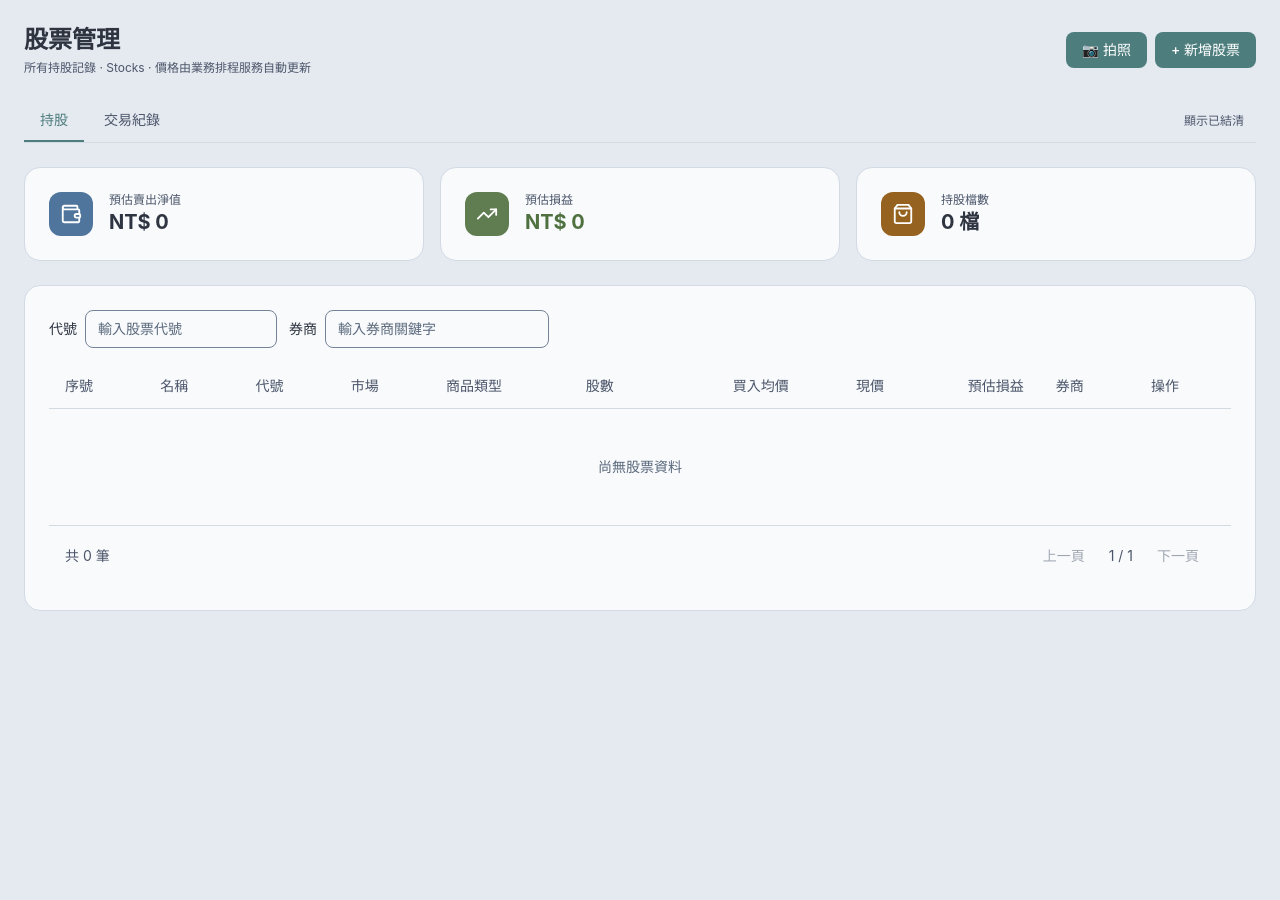
Test case: StocksPage market contract › closes the create modal after a pending symbol lookup resolves before create
Click the button "+ 新增股票" at (1205, 50), box [1155,32,1256,68]
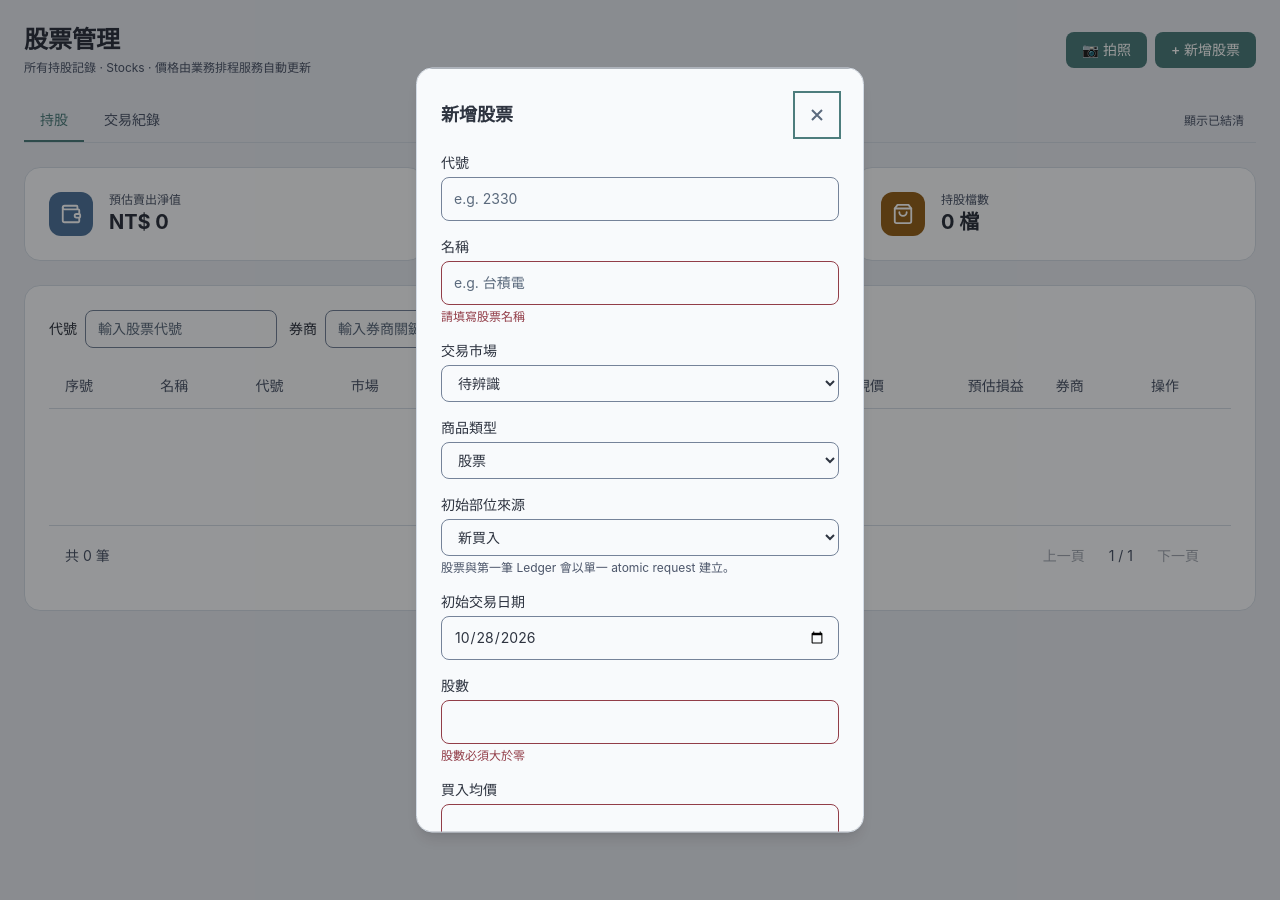
Type "自訂名稱" into the field with placeholder "e.g. 台積電" at (640, 282), box [441,260,839,304]
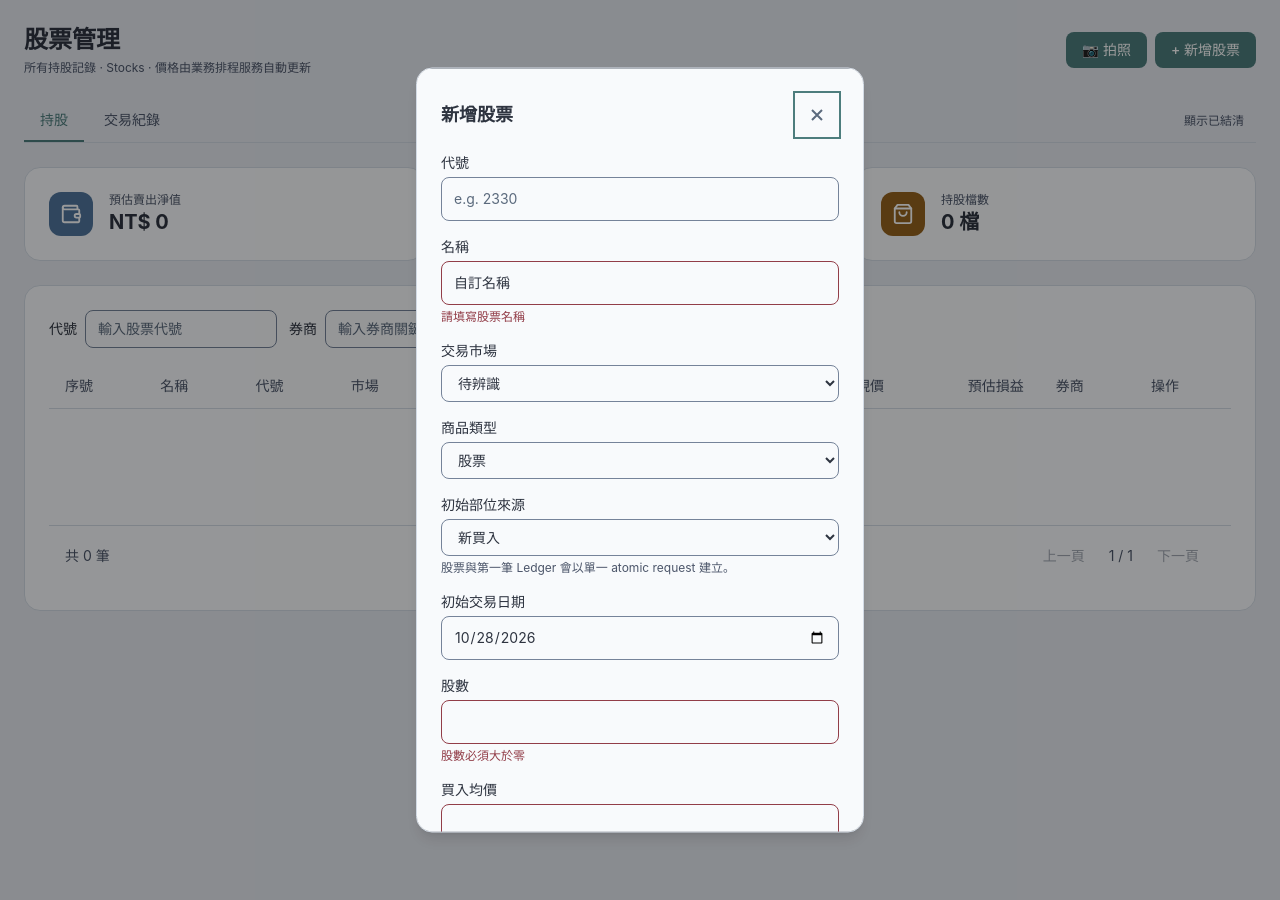
Type "10" into the 1st number field at (640, 722), box [441,700,839,744]
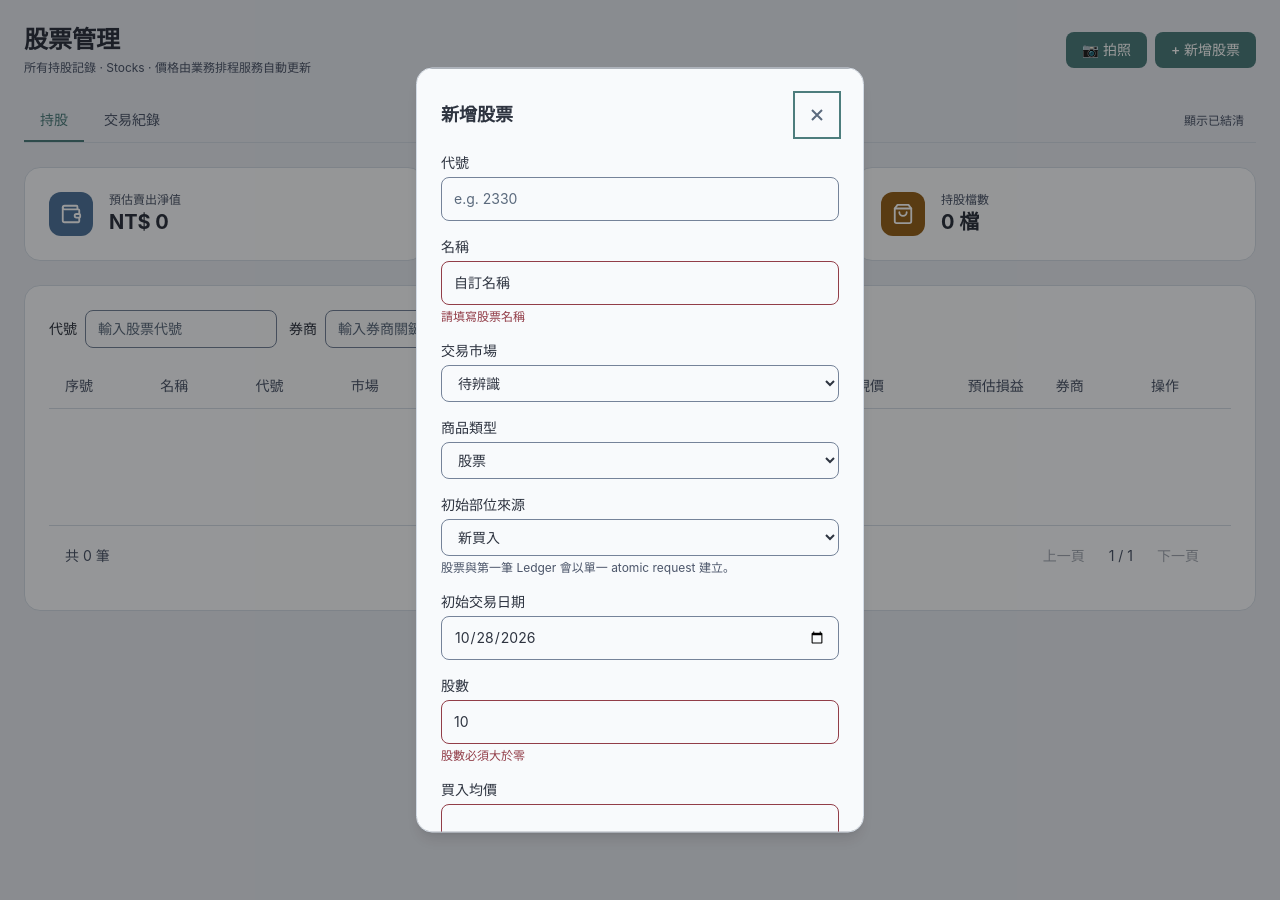
Type "500" into the 2nd number field at (640, 826), box [441,804,839,848]
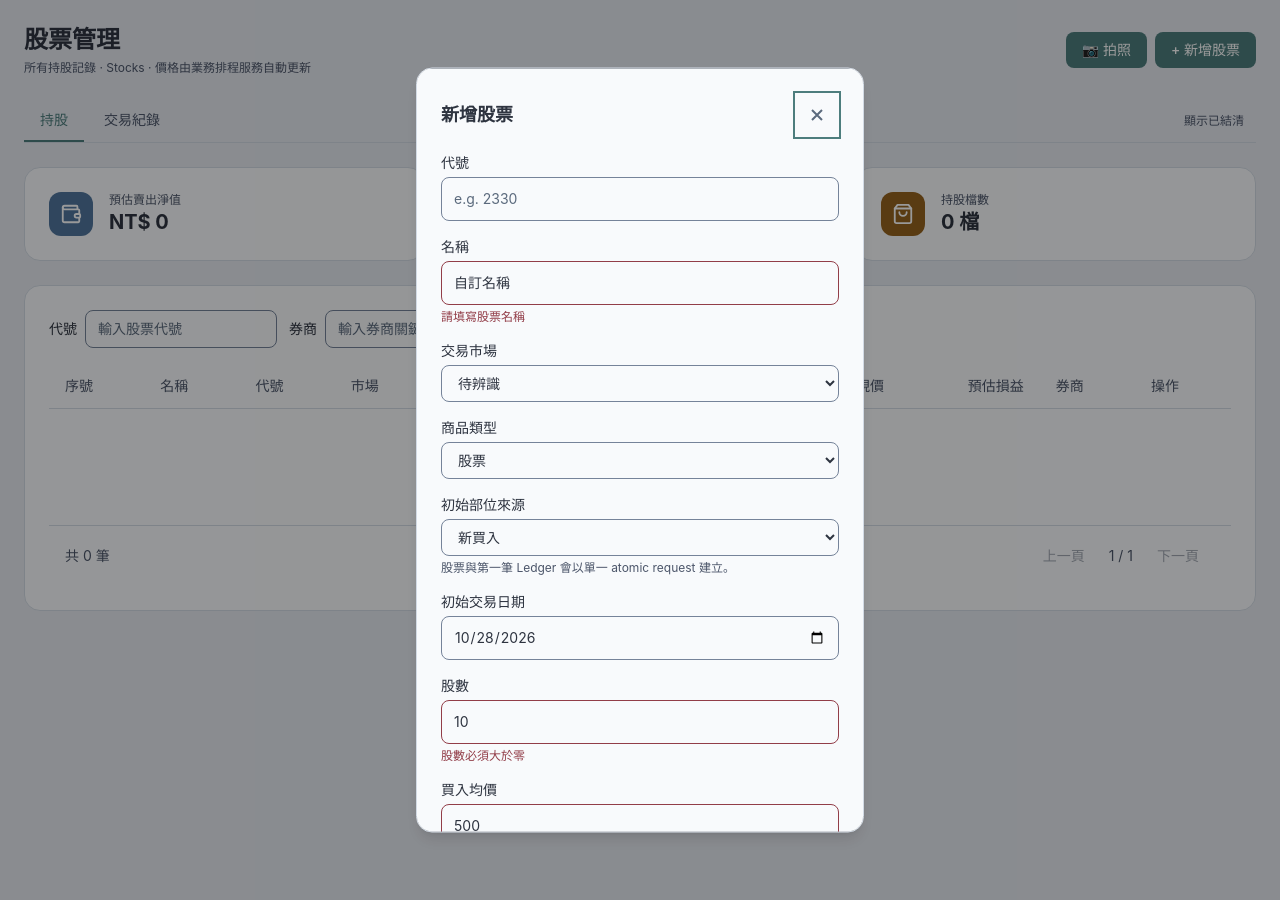
Type "2330" into the field with placeholder "e.g. 2330" at (640, 198), box [441,176,839,220]
Wait 400 ms
(page scrolled)
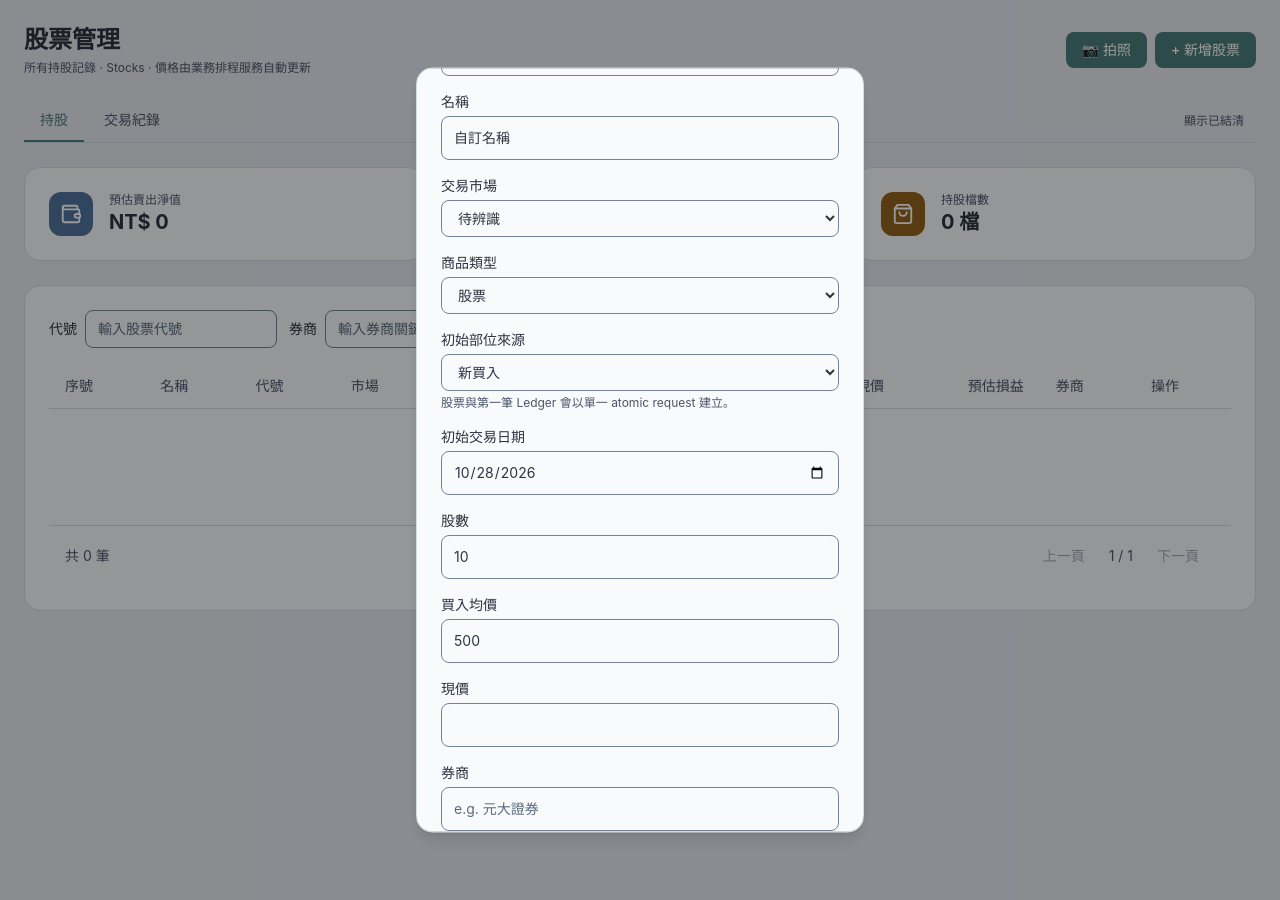
Submit the form, box [441,8,839,892]
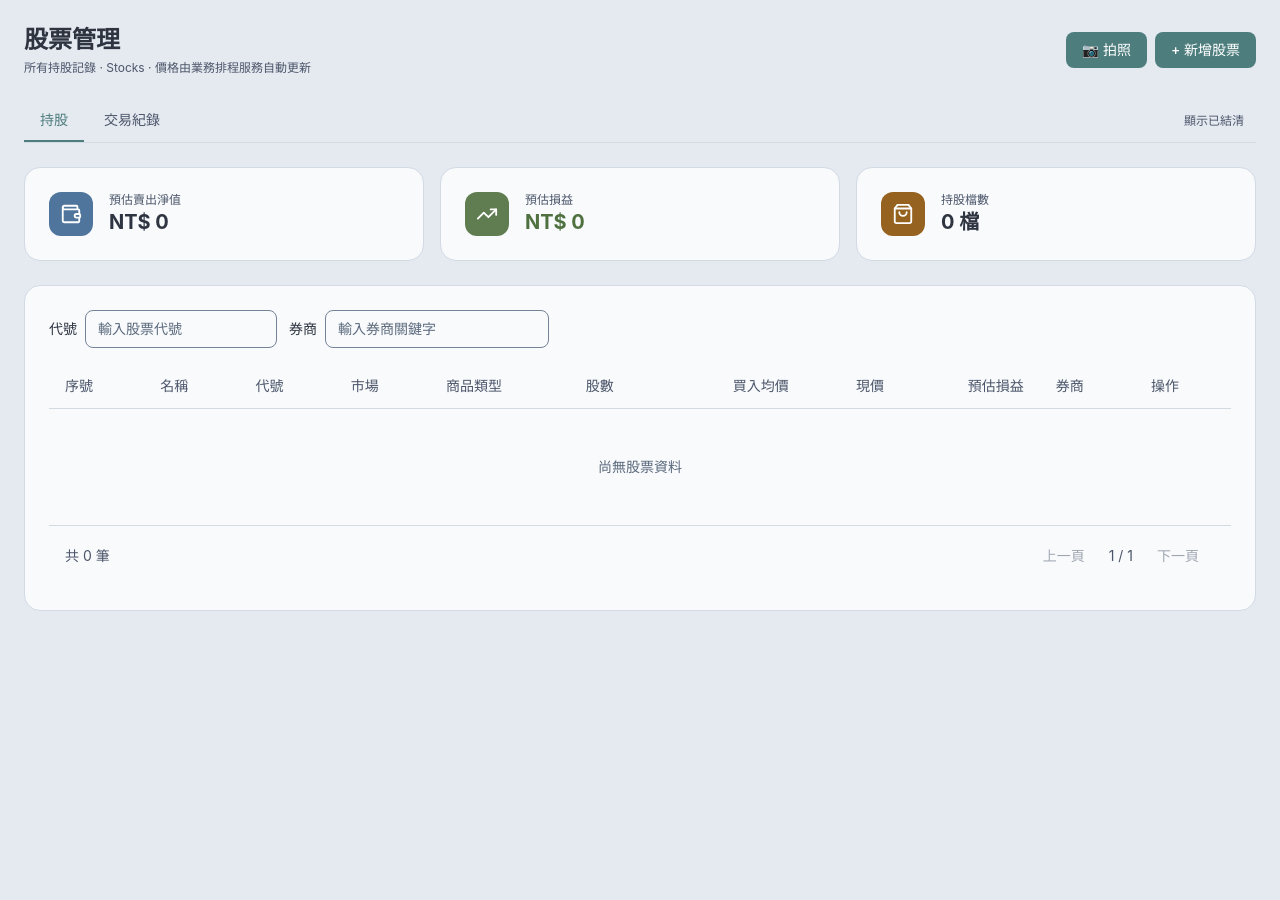
Result: the form is gone
